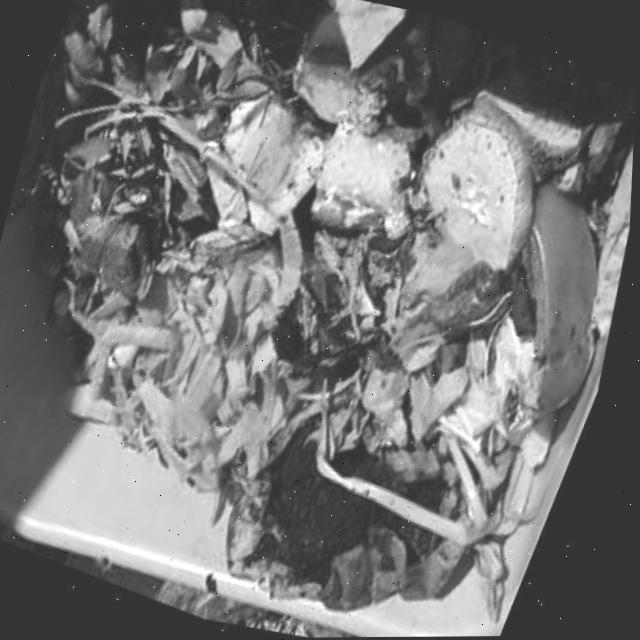Garbage: (0, 0, 636, 638)
